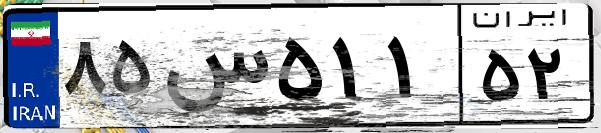1: (385, 28, 445, 110), (330, 28, 385, 110)
2: (525, 38, 570, 115)
5: (270, 28, 330, 110), (475, 38, 525, 113), (110, 28, 158, 98)
8: (57, 26, 110, 100)
س: (158, 20, 270, 120)
